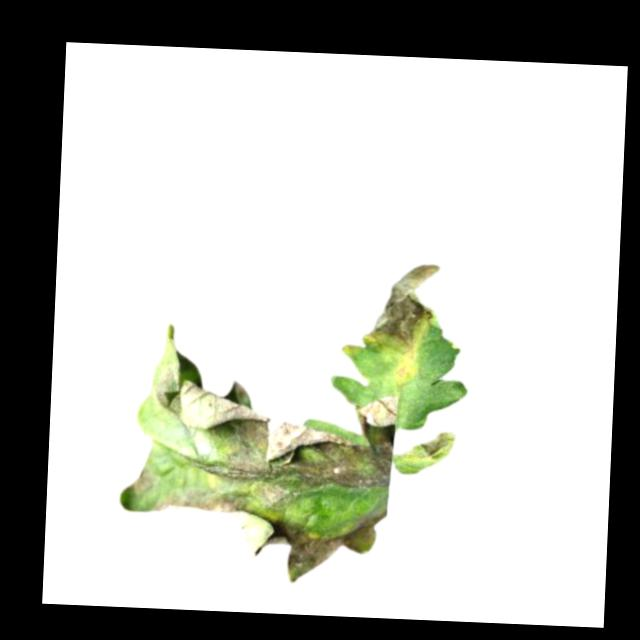Late_blight: (199, 397, 393, 514), (249, 508, 385, 586), (364, 260, 446, 358), (152, 489, 250, 529), (354, 396, 399, 447), (415, 429, 457, 463), (127, 470, 155, 499)
